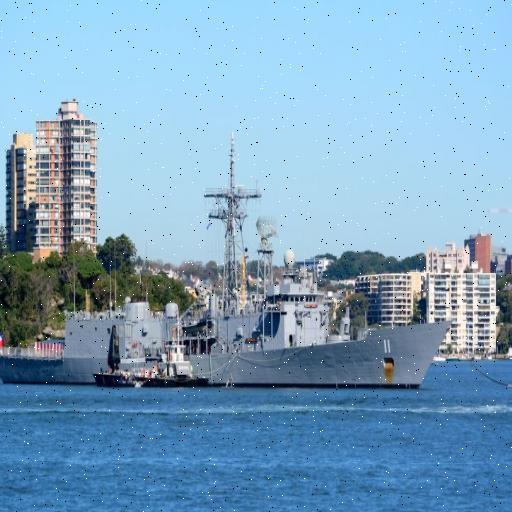Fragata: (1, 109, 460, 399)
